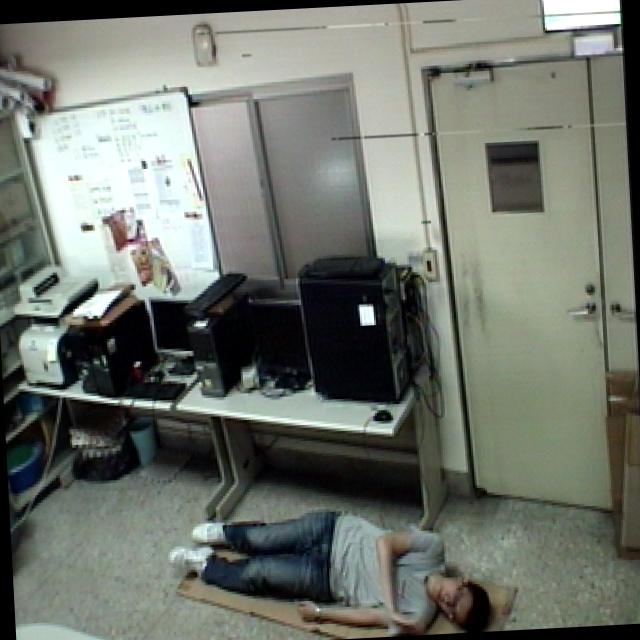lie: (157, 483, 500, 640)
